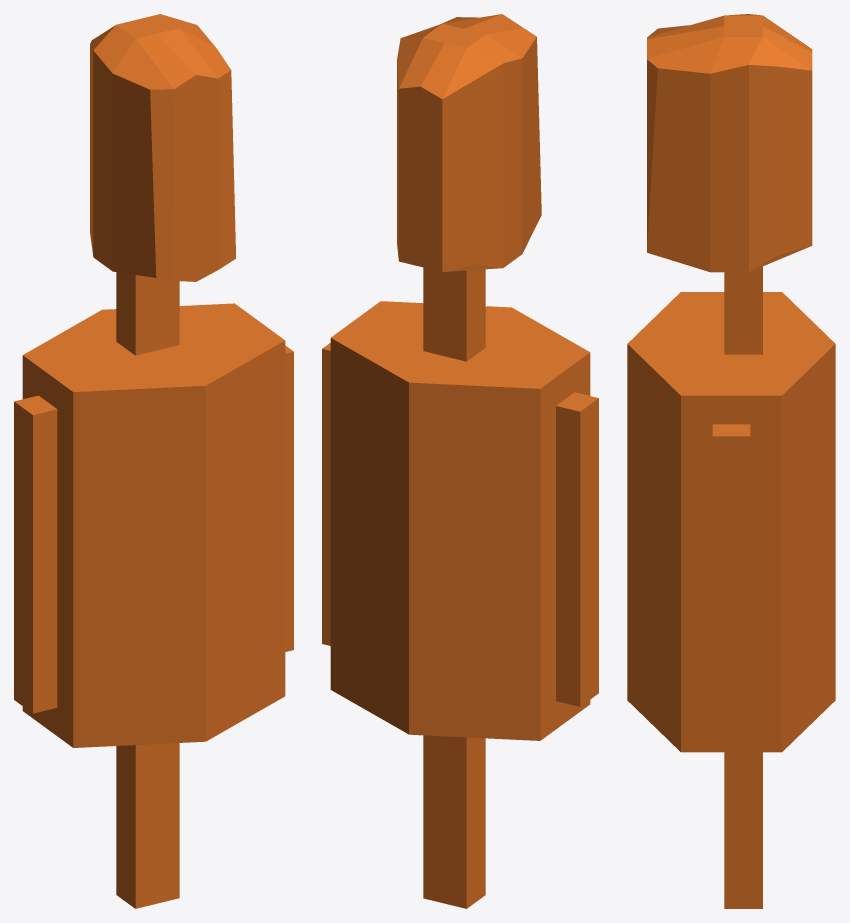
File: character.glb
3 views of the same model, side by side, from view 1: azimuth 30°, elevation 25°; view 2: azimuth 150°, elevation 25°; view 3: azimuth 270°, elevation 25° (orthographic).
Visible parts, largest first — view 1: Cube; view 2: Cube; view 3: Cube.
Part boxes in pixels (x1,y1,x2,y2): Cube: (14, 14, 293, 908); Cube: (322, 14, 598, 908); Cube: (627, 14, 835, 908).
Bounding box in the file's own units: 0.5892 × 1.88 × 0.4062.
